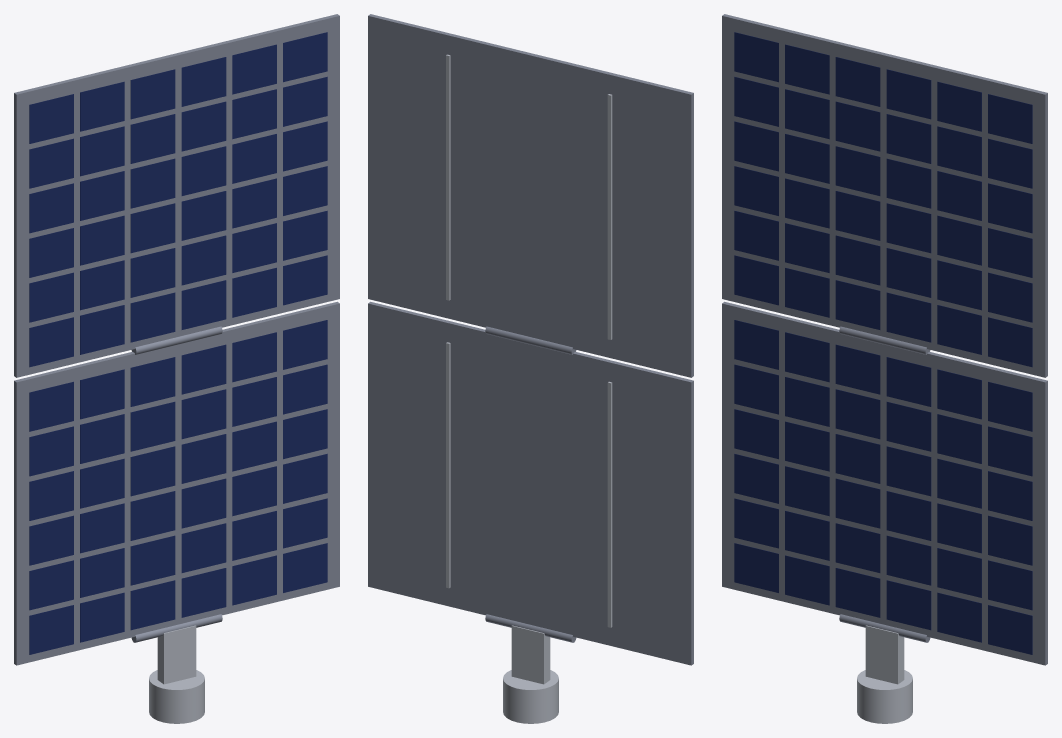
The model's file is pan400.glb.
The picture shows the model from 3 angles, left to right: view 1: azimuth 30°, elevation 25°; view 2: azimuth 150°, elevation 25°; view 3: azimuth 330°, elevation 25°; orthographic projection.
Visible parts, largest first — view 1: pan400, pan400_motor, pan400_yugo_arm; view 2: pan400, pan400_motor, pan400_yugo_arm; view 3: pan400, pan400_motor, pan400_yugo_arm.
Part boxes in pixels (<box>): pan400: <box>14,14,339,665</box>; pan400_motor: <box>149,670,204,723</box>; pan400_yugo_arm: <box>157,625,196,684</box>; pan400: <box>368,14,693,665</box>; pan400_motor: <box>503,670,558,723</box>; pan400_yugo_arm: <box>511,625,550,684</box>; pan400: <box>722,14,1047,665</box>; pan400_motor: <box>857,670,912,723</box>; pan400_yugo_arm: <box>865,625,904,684</box>.
Bounding box in the file's own units: 0.6 × 1.17 × 0.09.
